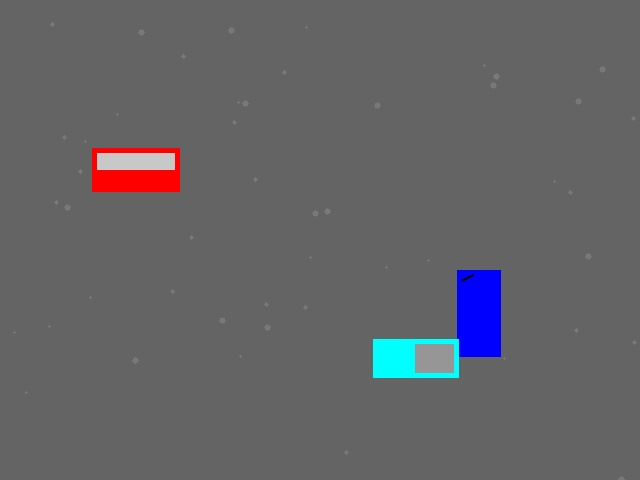car: (92, 148, 179, 191)
motorcycle: (457, 270, 500, 356)
truck: (373, 339, 458, 377)
